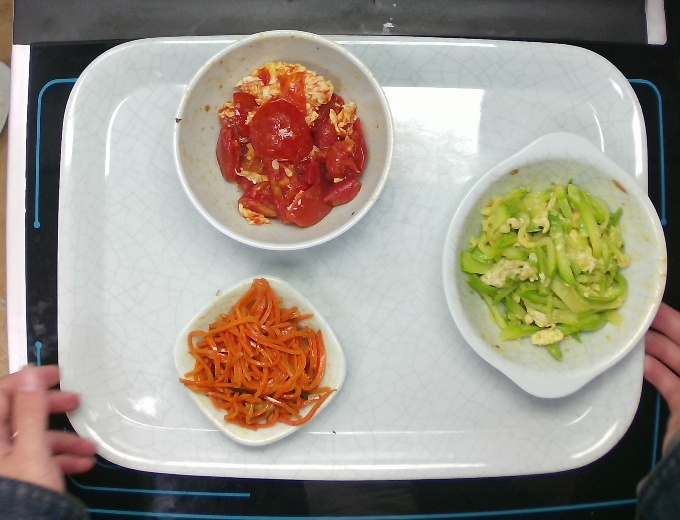JYsf-Fan_Wan: (171, 26, 395, 251)
JYsf-Shuang_Er_Wan: (438, 128, 666, 402)
JYsf-Si_Fang_Die: (173, 273, 346, 453)
